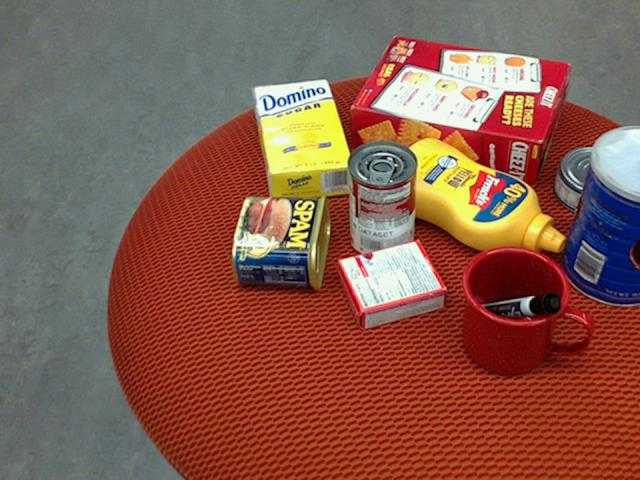cracker_box: (350, 34, 568, 183)
gelatin_box: (333, 242, 445, 330)
large_marker: (474, 290, 561, 323)
master_chef_can: (560, 124, 639, 307)
mug: (459, 245, 589, 375)
mustard_bottle: (381, 137, 565, 254)
potted_meat_can: (230, 193, 329, 290)
sugar_box: (252, 77, 355, 204)
tomato_soup_can: (345, 138, 416, 258)
tuna_fish_can: (553, 144, 639, 217)
